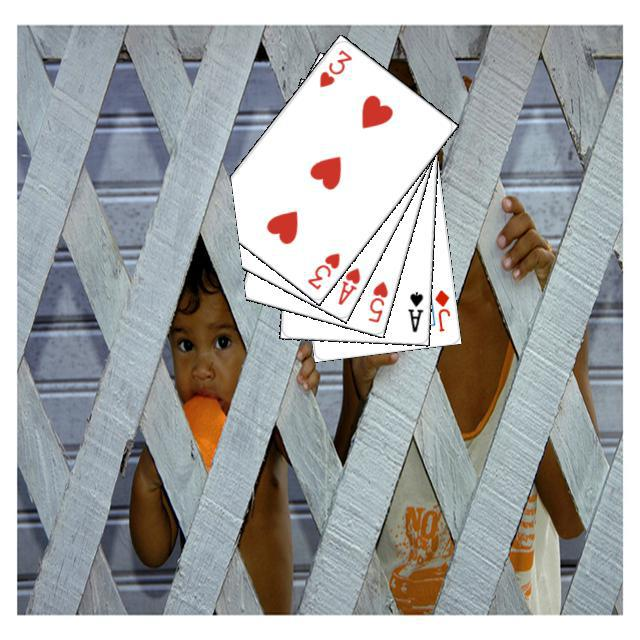3h: (314, 44, 354, 89), (302, 248, 342, 291)
5h: (363, 276, 390, 324)
Ah: (333, 262, 362, 307)
As: (403, 287, 425, 334)
Jd: (430, 285, 452, 334)
